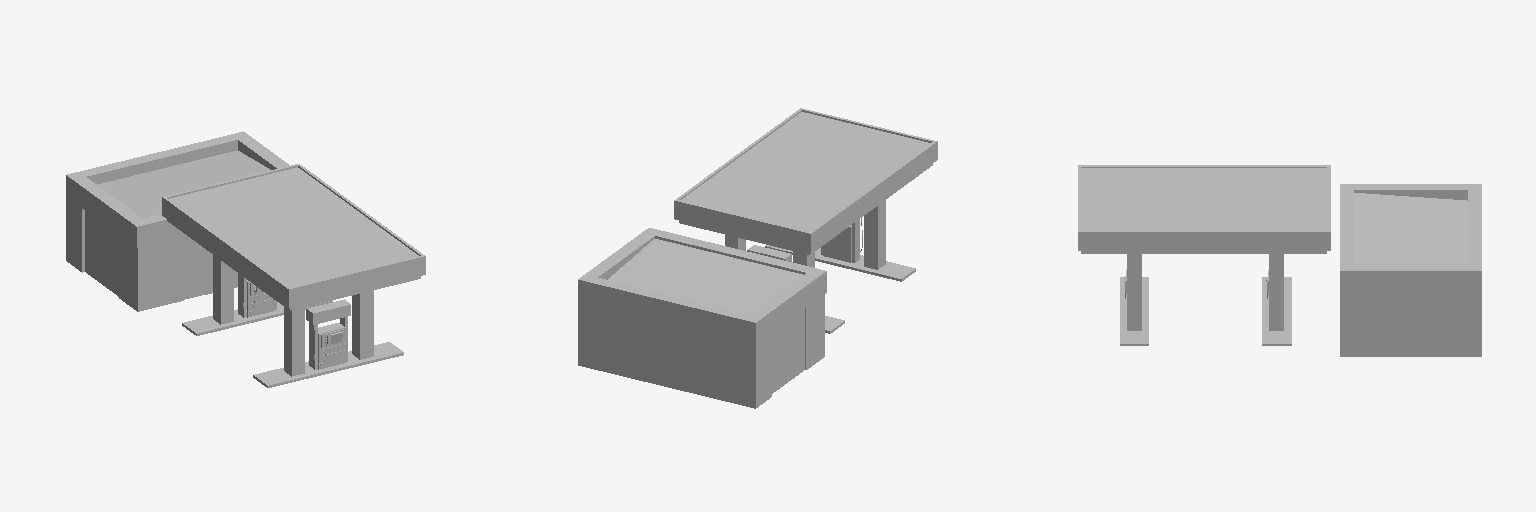
Rendered from Building_Gas Station.obj.
The picture shows the model from 3 angles: view 1: azimuth 30°, elevation 25°; view 2: azimuth 150°, elevation 25°; view 3: azimuth 270°, elevation 25°; orthographic projection.
Visible parts, largest first — view 1: Building_Gas_Station; view 2: Building_Gas_Station; view 3: Building_Gas_Station.
Part boxes in pixels (x1,y1,x2,y2): Building_Gas_Station: (66, 131, 425, 387); Building_Gas_Station: (578, 108, 937, 408); Building_Gas_Station: (1078, 165, 1481, 356).
Size of the model in its own units: 512 by 315 by 1008.